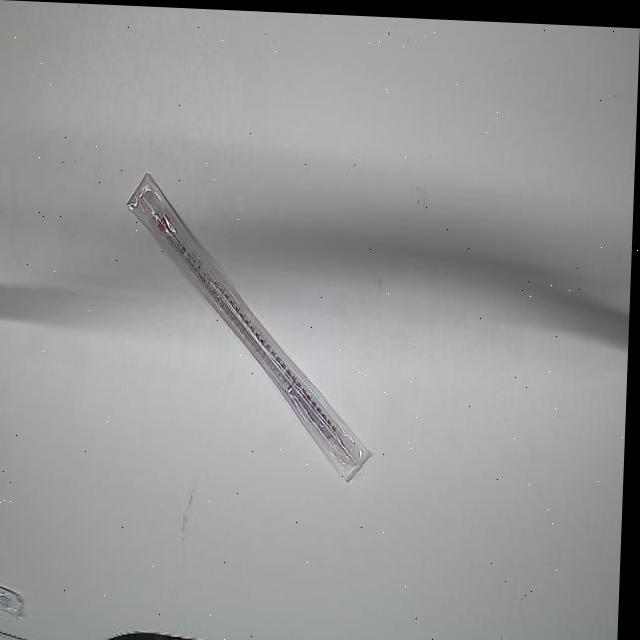Serelogical Pipet 25 mL - Sealed: (117, 170, 390, 487)
